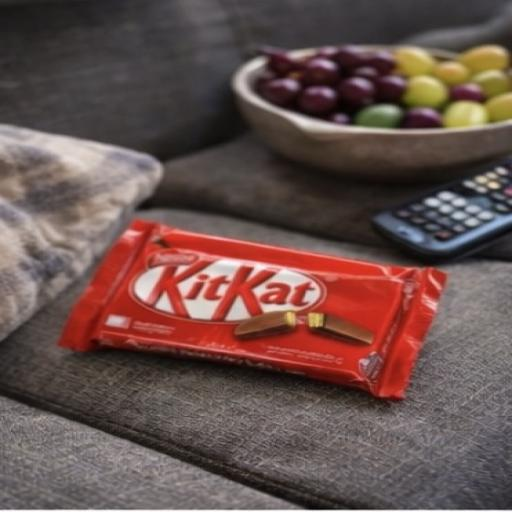kitkat: (40, 190, 504, 428)
